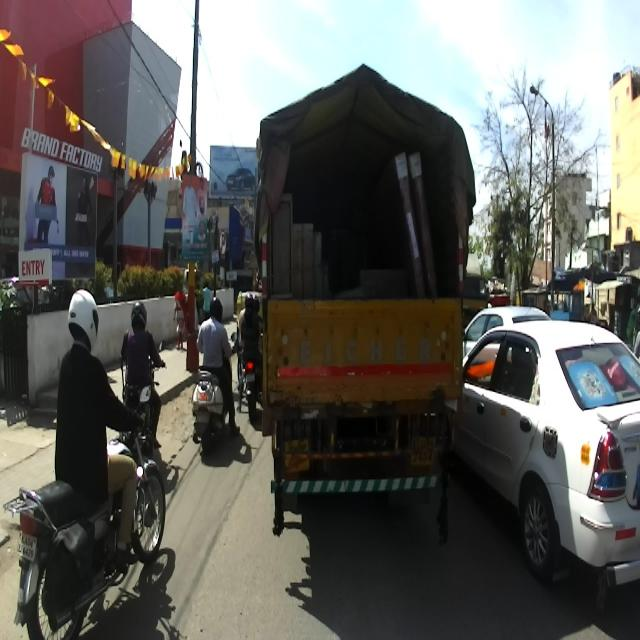car: (453, 314, 640, 594), (461, 304, 552, 359)
motorcycle: (2, 379, 166, 639), (117, 337, 166, 457), (233, 313, 263, 419)
scooter: (192, 331, 238, 453)
truck: (244, 56, 479, 542)
